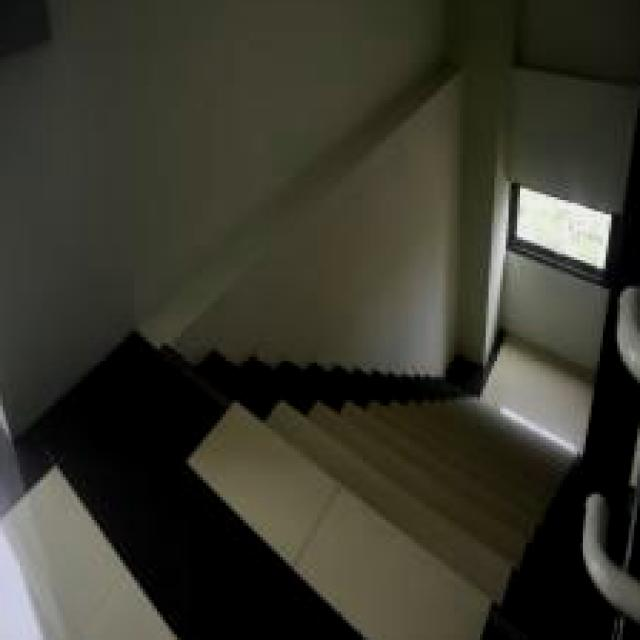downstair: (213, 358, 578, 640)
